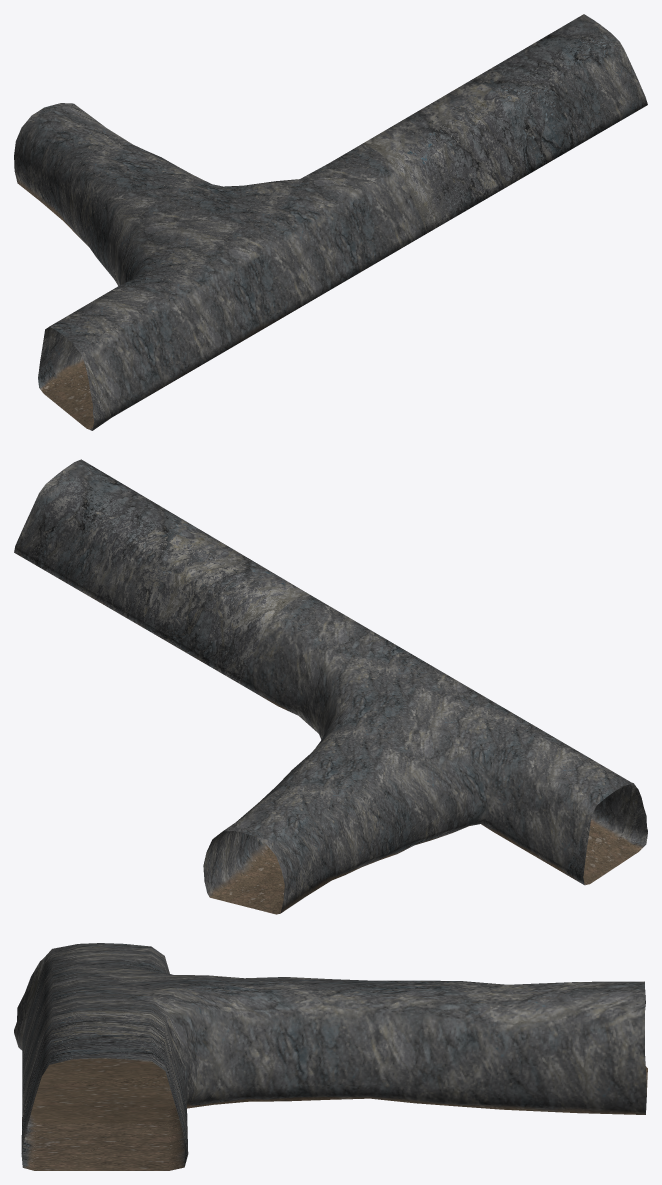
The model's file is piece.obj.
3 views of the same model, one above another, from view 1: azimuth 30°, elevation 25°; view 2: azimuth 150°, elevation 25°; view 3: azimuth 270°, elevation 25° (orthographic). The views are drawn at different scales.
Parts seen in each view (by area): view 1: SlopeB; view 2: SlopeB; view 3: SlopeB.
Boxes of the visible parts, x1,y1,x2,y2 form: SlopeB: (14, 14, 647, 430); SlopeB: (14, 459, 647, 914); SlopeB: (14, 943, 647, 1170).
Size of the model in its own units: 17.14 by 7.53 by 11.57.
